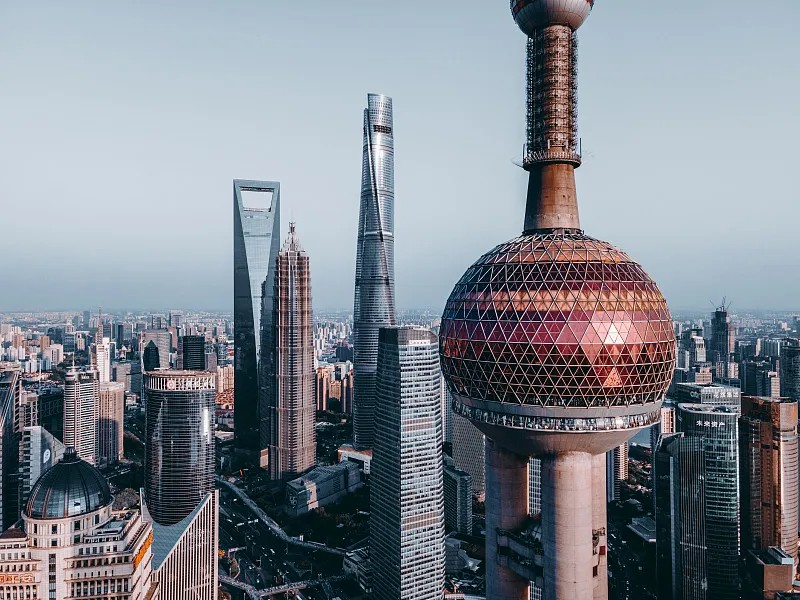Oriental: (438, 1, 677, 593)
